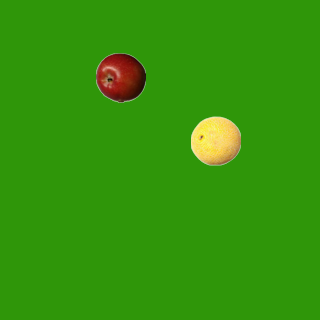Apple Braeburn: (95, 52, 145, 102)
Cantaloupe 1: (190, 115, 240, 165)
